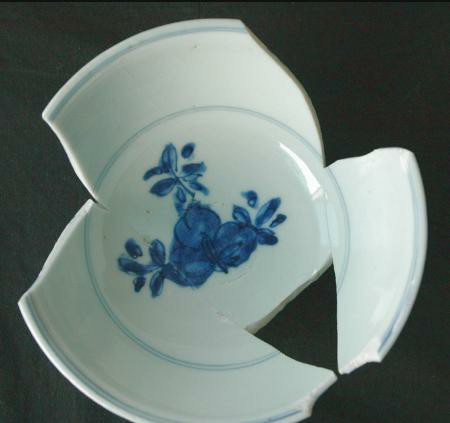ceramics: (16, 12, 431, 423)
